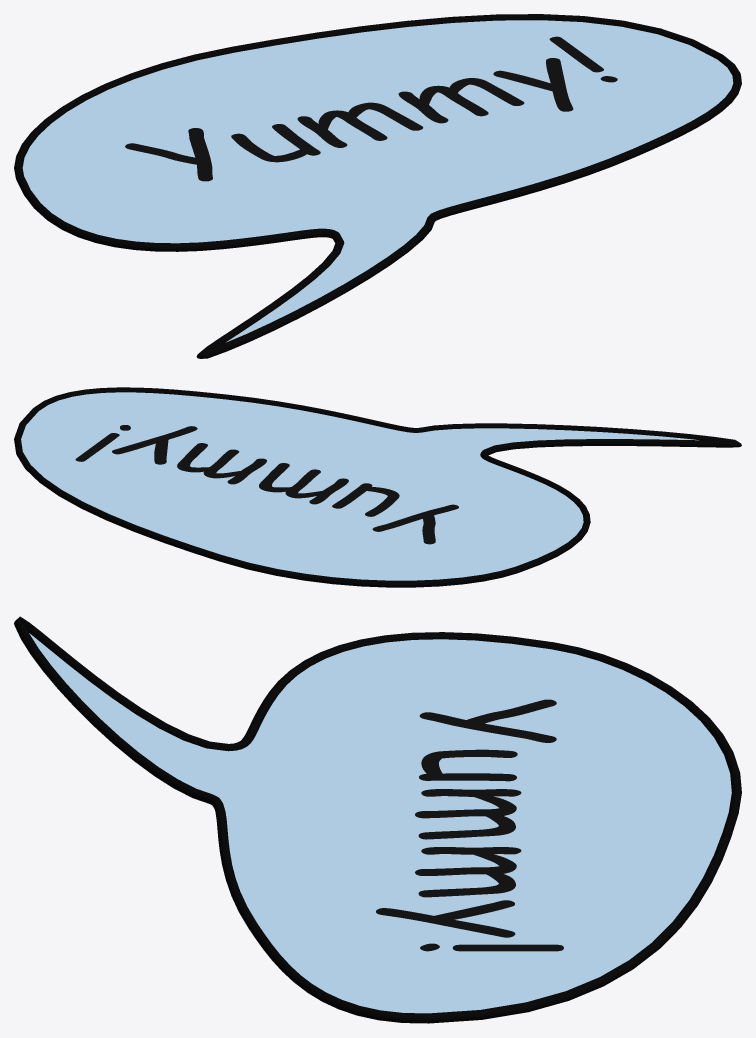
Rendered from Yummy.fbx.
The picture shows the model from 3 angles, top to bottom: view 1: azimuth 30°, elevation 25°; view 2: azimuth 150°, elevation 25°; view 3: azimuth 270°, elevation 25°; orthographic projection. The views are drawn at different scales.
Parts seen in each view (by area): view 1: BezierCircle.015, BezierCircle.014, Text.007; view 2: BezierCircle.015, BezierCircle.014, Text.007; view 3: BezierCircle.015, BezierCircle.014, Text.007.
Part boxes in pixels (x1=…): BezierCircle.015: x1=22, y1=20, x2=733, y2=342; BezierCircle.014: x1=14, y1=14, x2=741, y2=358; Text.007: x1=125, y1=36, x2=617, y2=181; BezierCircle.015: x1=21, y1=392, x2=698, y2=580; BezierCircle.014: x1=14, y1=387, x2=741, y2=587; Text.007: x1=75, y1=425, x2=458, y2=544; BezierCircle.015: x1=29, y1=633, x2=731, y2=1013; BezierCircle.014: x1=14, y1=616, x2=741, y2=1023; Text.007: x1=376, y1=699, x2=563, y2=951.
Size of the model in its own units: 188 by 2.58 by 144.
